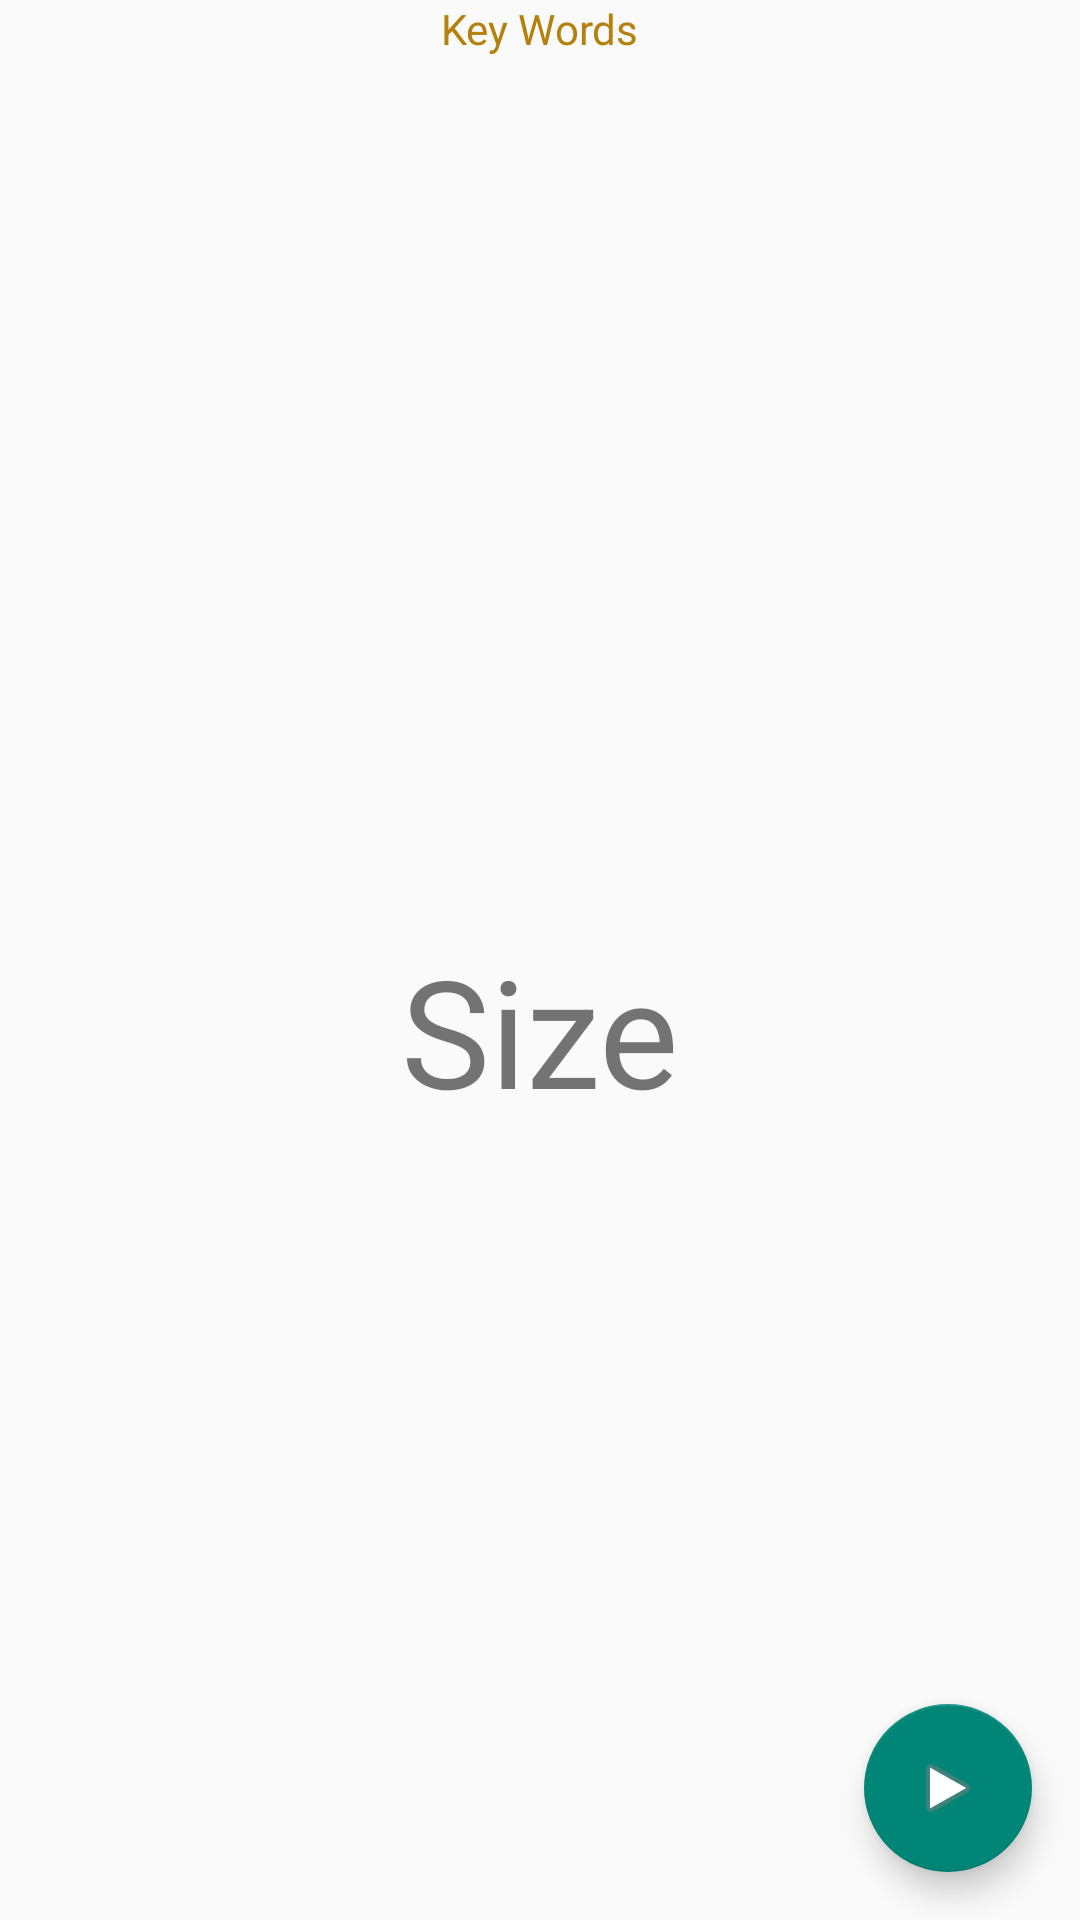

Locate icon controls on the screen. Image size 1080x1920, boxes as [left=x1, top=y1, right=x2, bottom=y2].
play: [left=864, top=1704, right=1032, bottom=1872]
